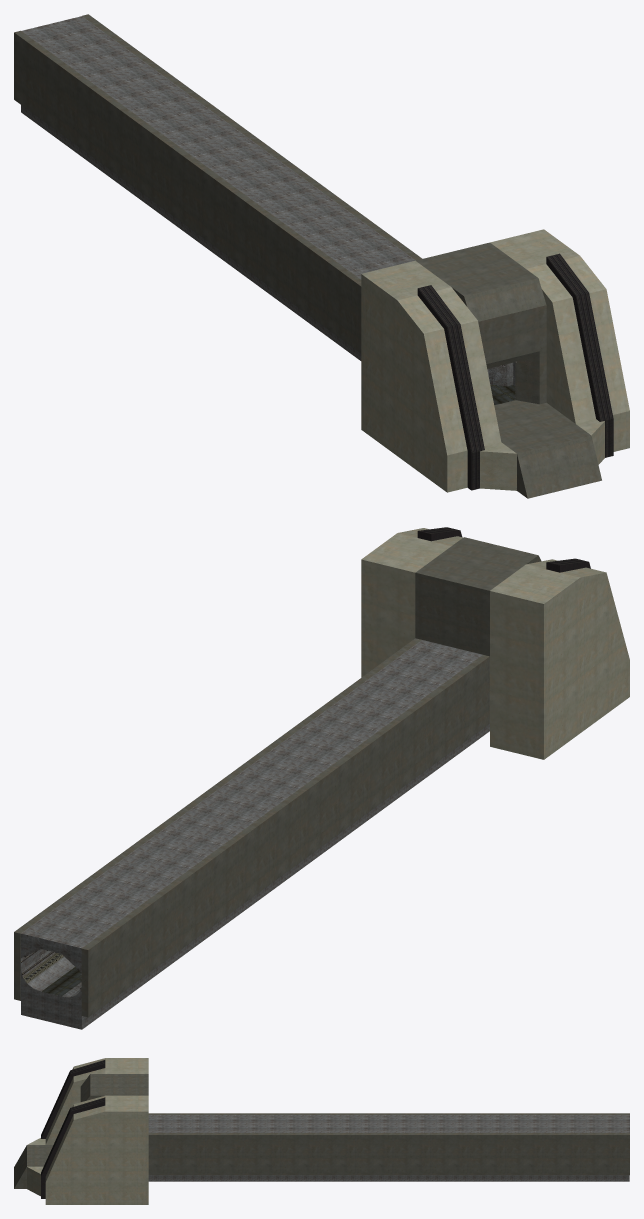
File: sidetunnel_new.fbx
The picture shows the model from 3 angles, top to bottom: view 1: azimuth 30°, elevation 25°; view 2: azimuth 150°, elevation 25°; view 3: azimuth 270°, elevation 25°; orthographic projection. The views are drawn at different scales.
Visible parts, largest first — view 1: Object; view 2: Object; view 3: Object.
Boxes of the visible parts, x1,y1,x2,y2 form: Object: [14, 14, 629, 498]; Object: [14, 527, 629, 1029]; Object: [14, 1058, 629, 1204].
Size of the model in its own units: 5400 by 4600 by 26291.
